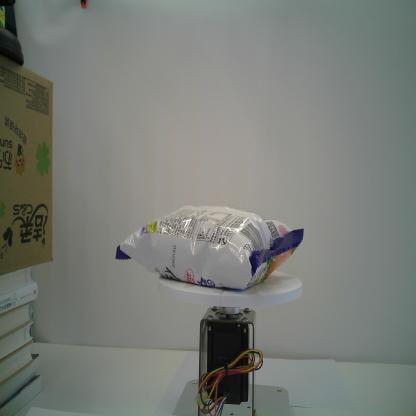Puffed Food: (113, 202, 306, 294)
